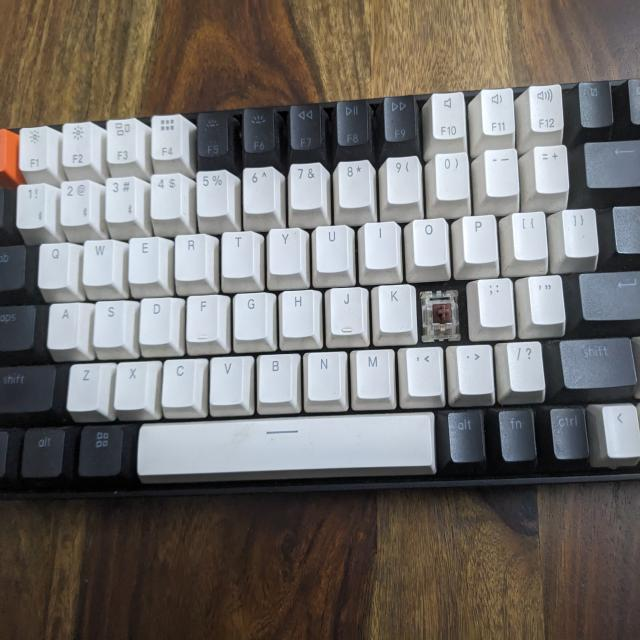C: (422, 287, 459, 334)
